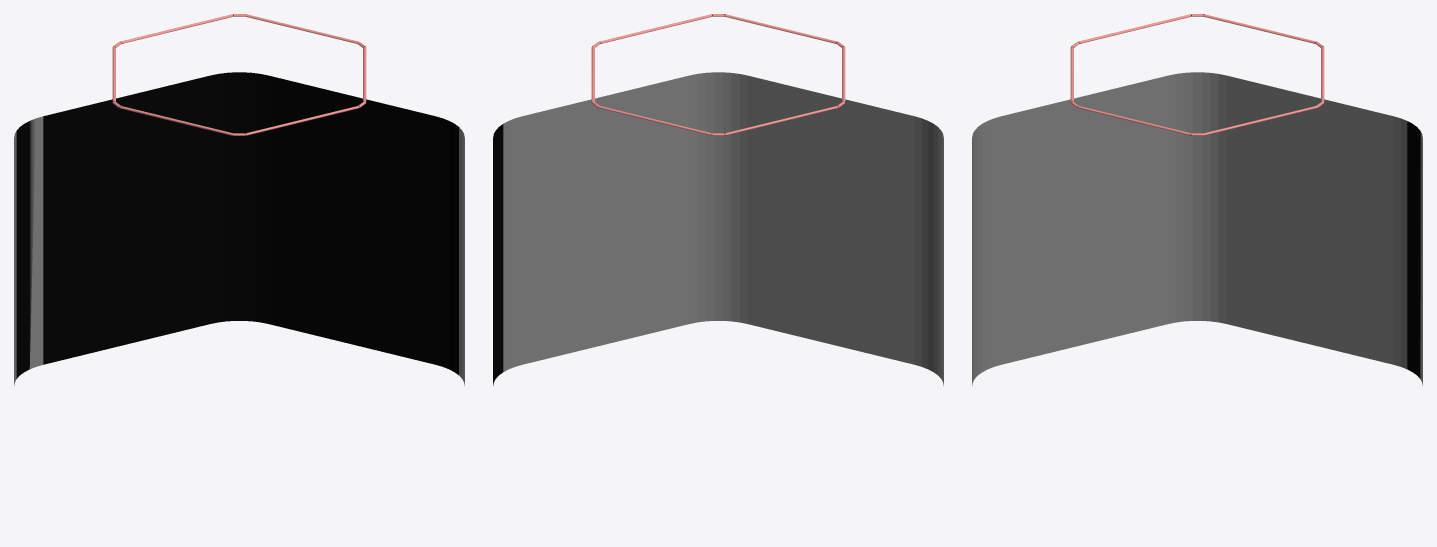
The model's file is BO_Arena_SM.gltf.
3 renders of one model, left to right at view 1: azimuth 30°, elevation 25°; view 2: azimuth 150°, elevation 25°; view 3: azimuth 270°, elevation 25°, orthographic.
Parts seen in each view (by area): view 1: BO_Arena_SM; view 2: BO_Arena_SM; view 3: BO_Arena_SM.
Part boxes in pixels (bbox=[...]): BO_Arena_SM: bbox=[14, 14, 464, 385]; BO_Arena_SM: bbox=[493, 14, 943, 385]; BO_Arena_SM: bbox=[972, 14, 1422, 385].
Size of the model in its own units: 238 by 185 by 214.
